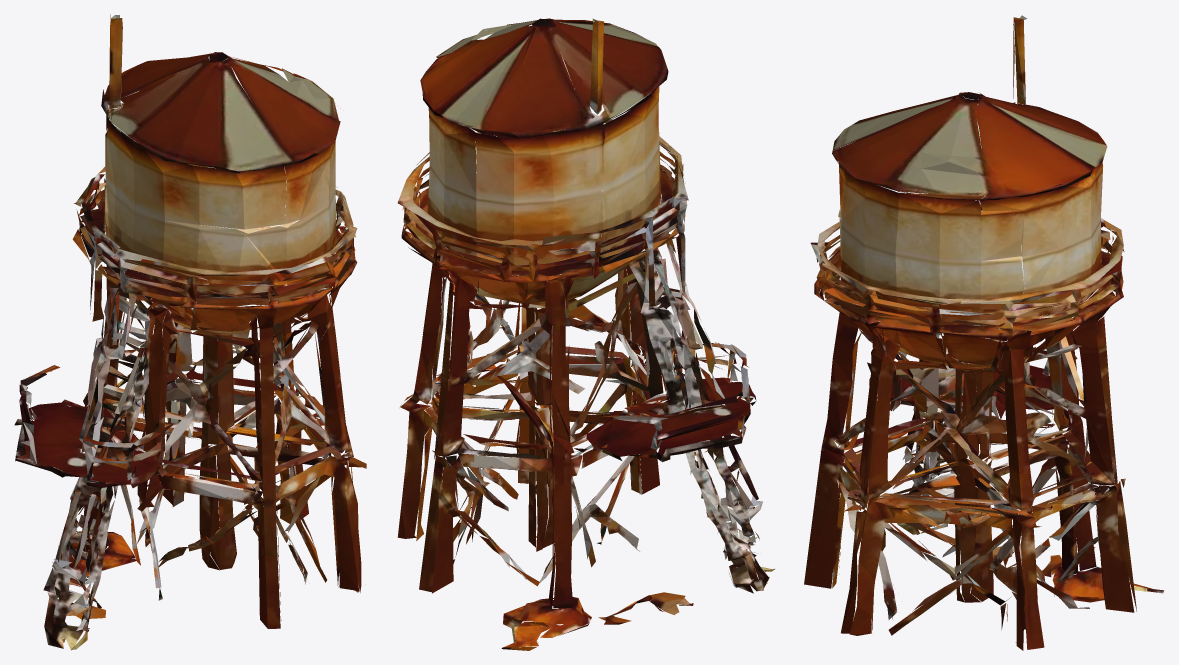
File: water-tower-short.glb
3 views of the same model, side by side, from view 1: azimuth 30°, elevation 25°; view 2: azimuth 150°, elevation 25°; view 3: azimuth 270°, elevation 25° (orthographic). The views are drawn at different scales.
Visible parts, largest first — view 1: tmpn19szm8r.ply; view 2: tmpn19szm8r.ply; view 3: tmpn19szm8r.ply.
Boxes of the visible parts, bbox=[...] form: tmpn19szm8r.ply: bbox=[14, 14, 366, 650]; tmpn19szm8r.ply: bbox=[397, 18, 774, 650]; tmpn19szm8r.ply: bbox=[804, 15, 1164, 650].
Size of the model in its own units: 4 by 7 by 4.
1 material, 1 textured.
